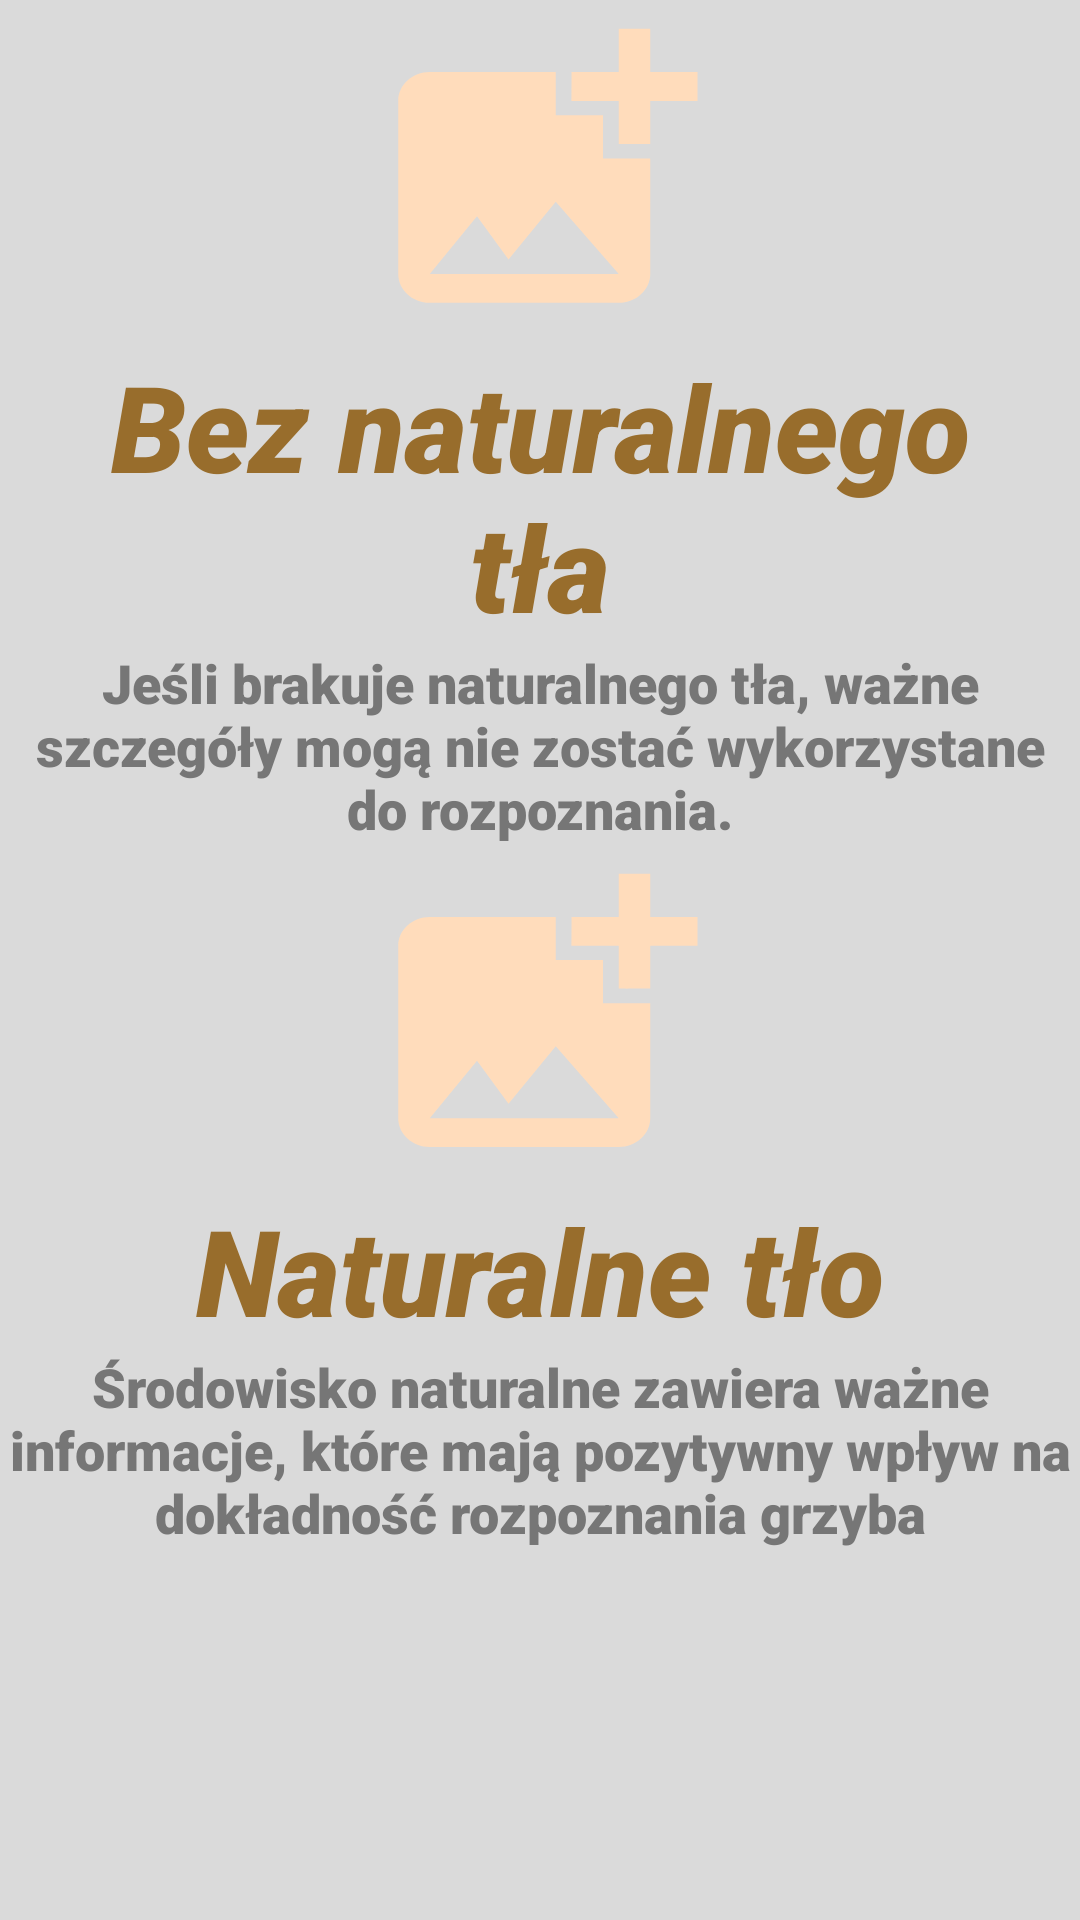

Screen size 1080*1920. Icon name, then its box in pixels as (x1, y1, x2, y2):
add photo: (398, 29, 697, 303), (398, 874, 697, 1147)
